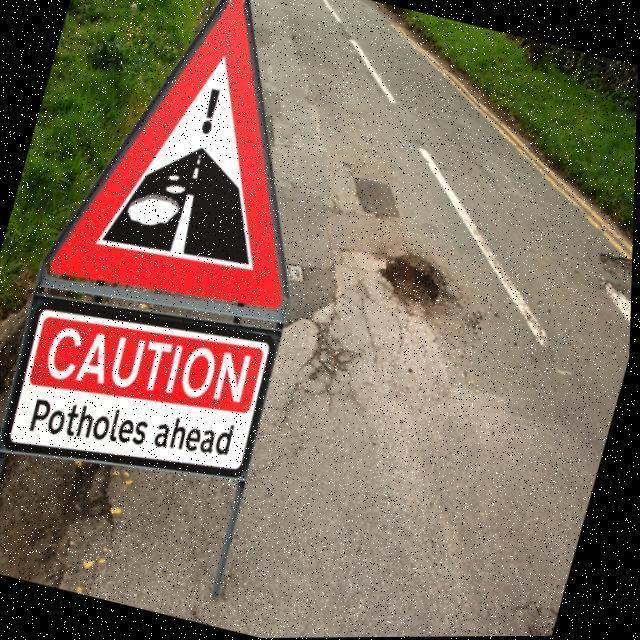Pothole: (380, 255, 455, 318)
